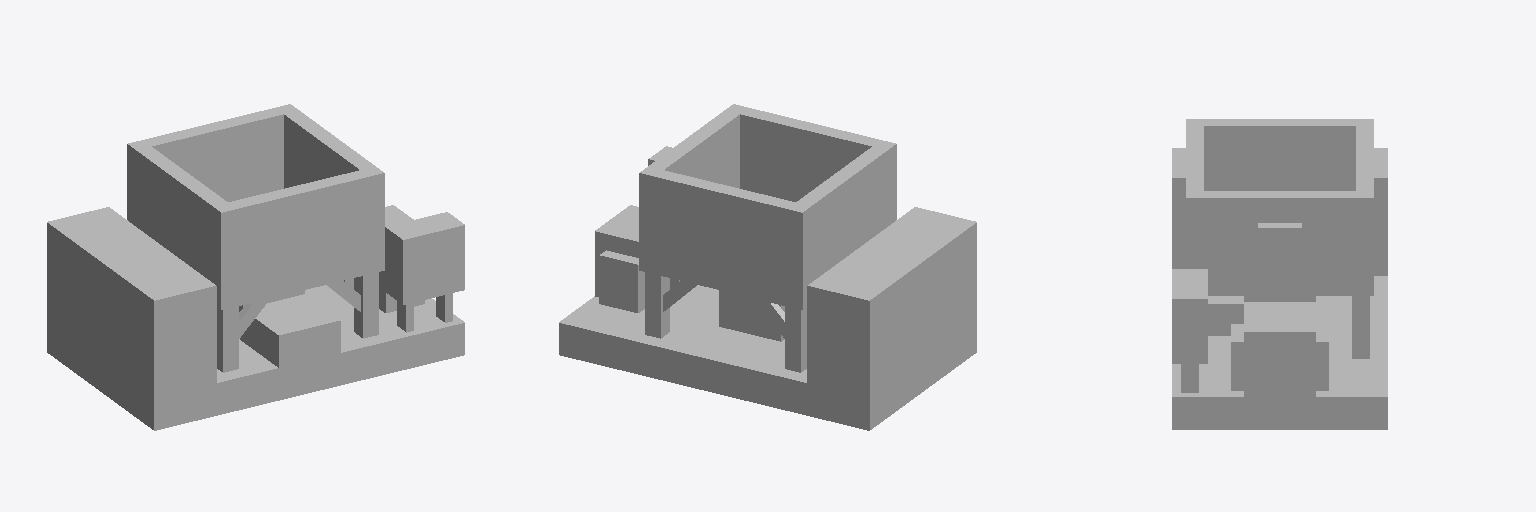
File: crusher.obj
The picture shows the model from 3 angles: view 1: azimuth 30°, elevation 25°; view 2: azimuth 150°, elevation 25°; view 3: azimuth 270°, elevation 25°; orthographic projection.
Parts seen in each view (by area): view 1: base; view 2: base; view 3: base.
Part boxes in pixels (bbox=[...]): base: bbox=[47, 104, 464, 430]; base: bbox=[559, 104, 976, 430]; base: bbox=[1172, 119, 1387, 429].
Bounding box in the file's own units: 5 × 3 × 3.